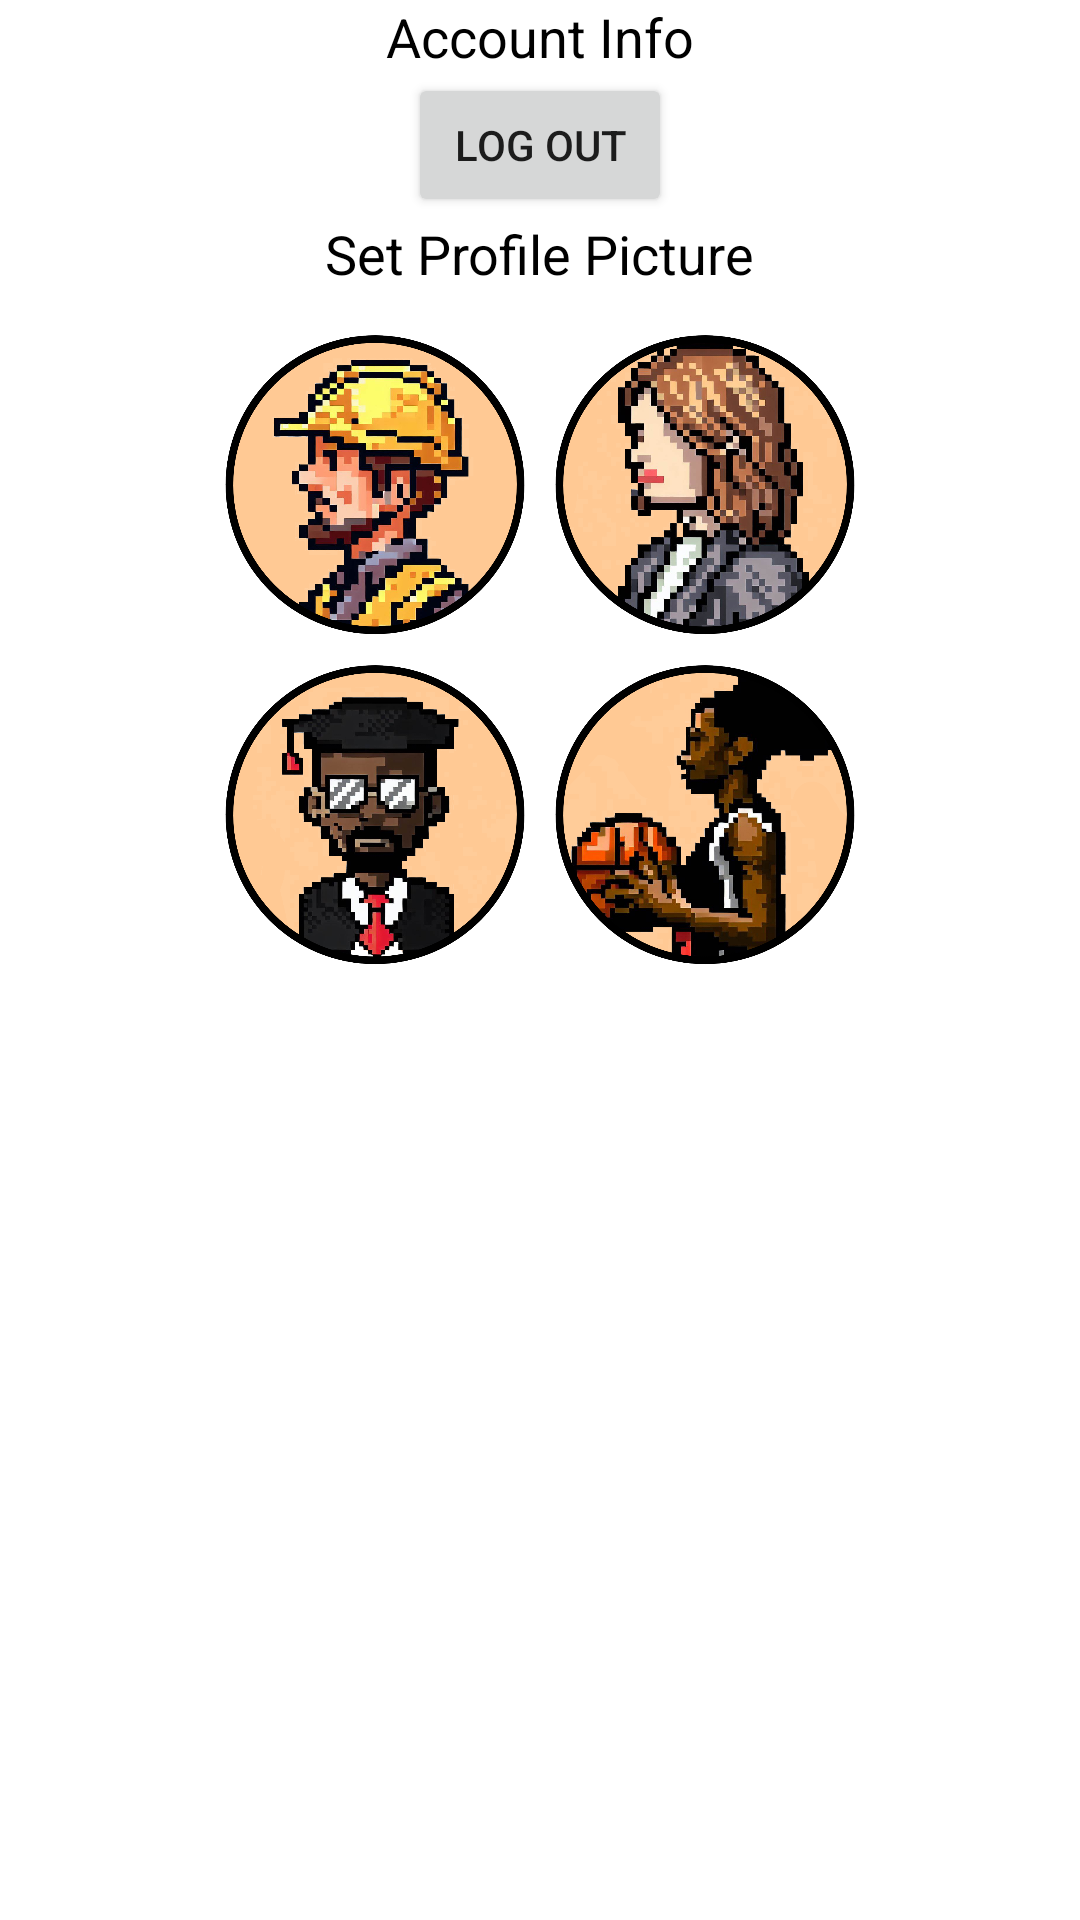

Where to tap for icons on this 1080×1920 app screen, as (x=x, y=y):
businessprofilepic: (x=705, y=484)
studentprofilepic: (x=375, y=814)
workerprofilepic: (x=375, y=484)
